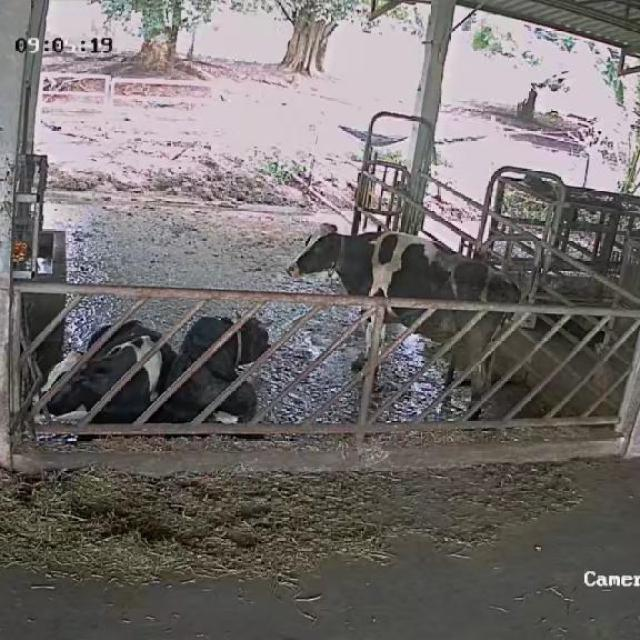lying down: (28, 317, 172, 432), (170, 308, 270, 419)
standing: (279, 213, 524, 416)
